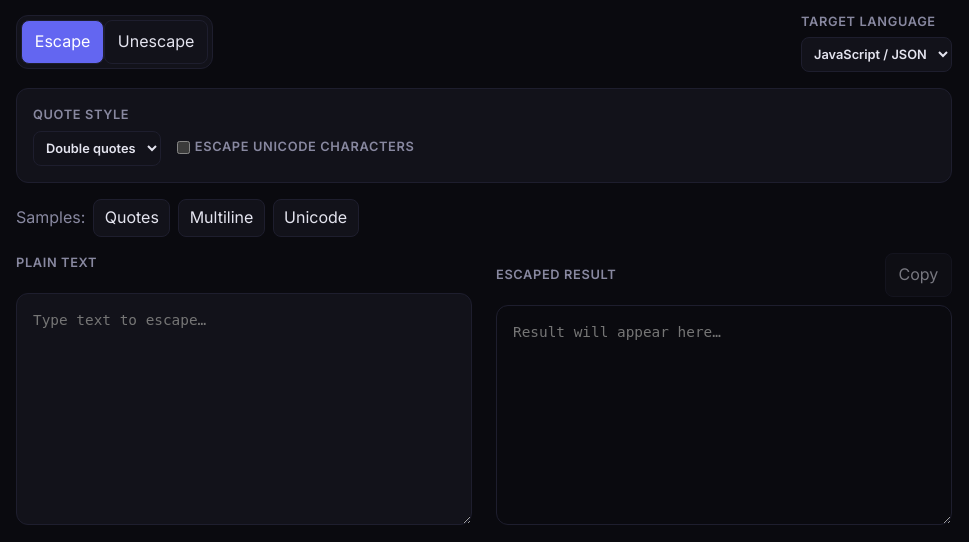
it: StringEscaperTool › applies a preset and selected escaping options
Click the button "Unicode" at coordinates (316, 218), box [273, 198, 359, 237]
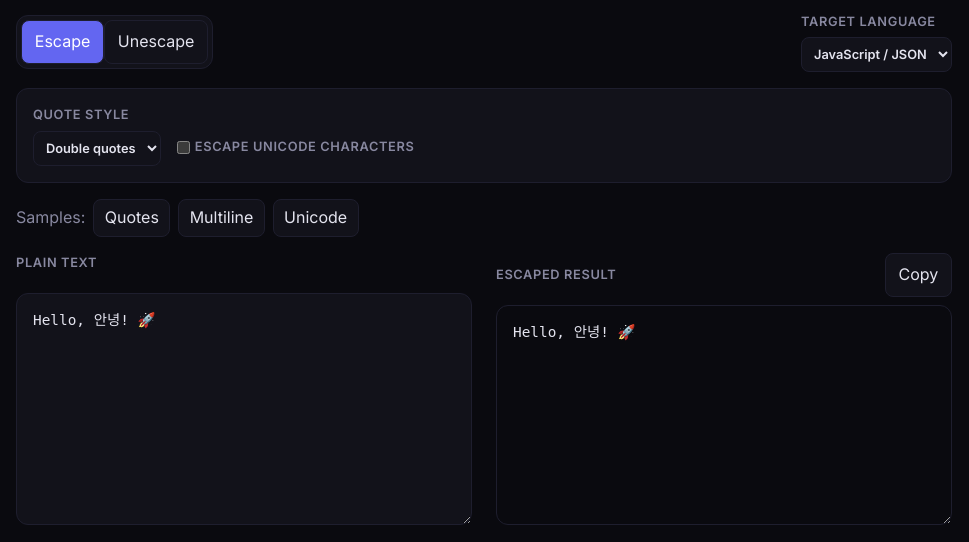
Click the checkbox labelled "Escape Unicode characters" at coordinates (184, 147), box [177, 141, 190, 154]
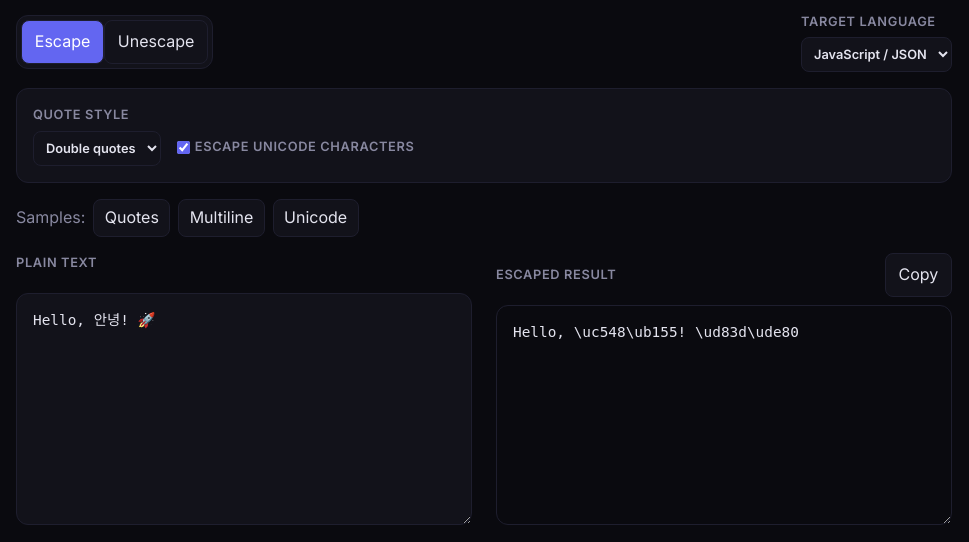
Now the text box labelled "Escaped result" holds "Hello, \\uc548\\ub155! \\ud83d\\ude80", box [496, 305, 952, 525]
